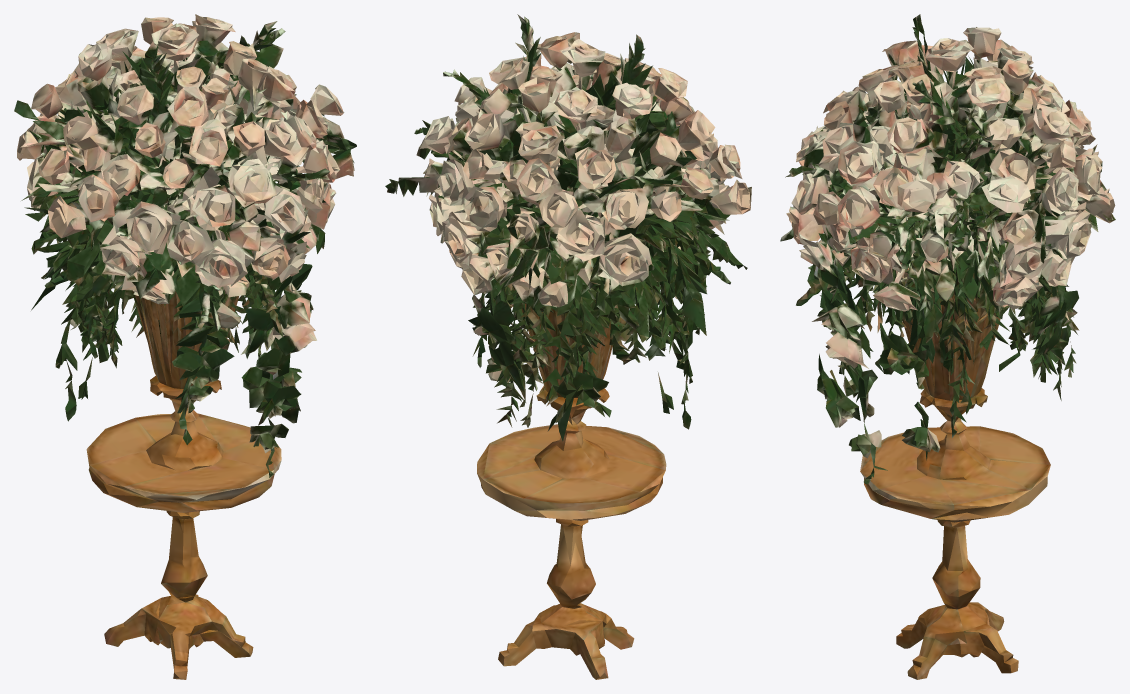
File: vestFloral-medio.glb
3 renders of one model, left to right at view 1: azimuth 30°, elevation 25°; view 2: azimuth 150°, elevation 25°; view 3: azimuth 270°, elevation 25°, orthographic. The views are drawn at different scales.
Bounding box in the file's own units: 0.9816 × 1.9 × 0.9278.
1 material, 1 textured.
